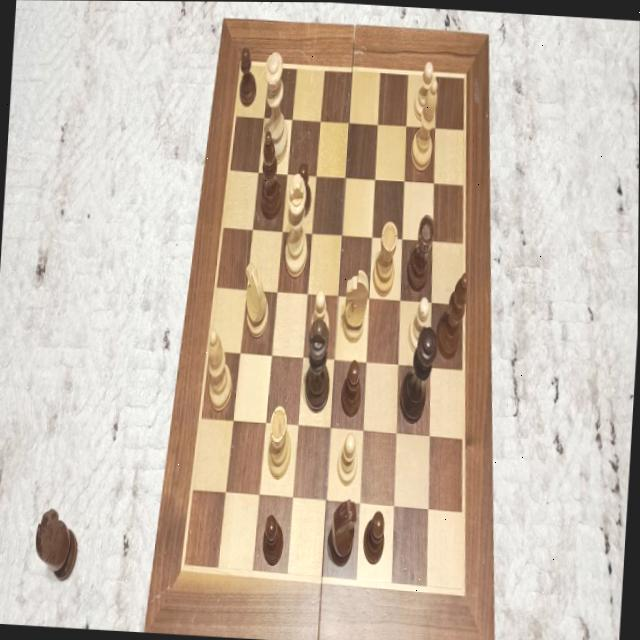black_bishop: (434, 270, 470, 358), (258, 130, 285, 220)
black_king: (304, 315, 334, 408)
black_knight: (328, 494, 359, 564)
black_pawn: (237, 47, 260, 107), (340, 358, 363, 417), (262, 511, 286, 566), (364, 508, 387, 563), (295, 162, 313, 217)
black_queen: (399, 322, 438, 421)
black_rook: (407, 212, 435, 292)
white_bishop: (205, 326, 238, 413), (410, 77, 439, 171)
white_king: (282, 171, 313, 276)
white_knight: (242, 260, 272, 338), (341, 267, 370, 344)
white_pawn: (409, 293, 432, 352), (337, 429, 360, 485), (414, 60, 434, 121), (311, 285, 332, 333)
white_queen: (262, 51, 292, 162)
white_rook: (267, 404, 294, 477), (373, 218, 399, 293)
